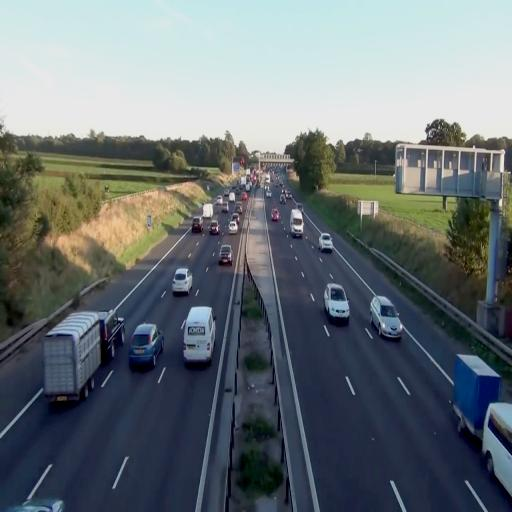vehicle: (42, 313, 104, 404), (42, 312, 103, 403), (451, 352, 502, 442), (482, 398, 512, 499), (482, 400, 512, 499), (181, 306, 216, 368), (129, 322, 164, 368), (368, 294, 402, 340), (324, 282, 350, 322), (172, 266, 192, 296), (290, 208, 304, 236), (218, 244, 232, 266), (320, 233, 332, 251), (228, 215, 239, 234)
